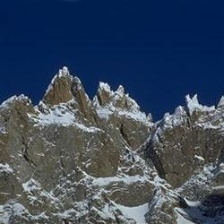neutral: (5, 8, 218, 217)
